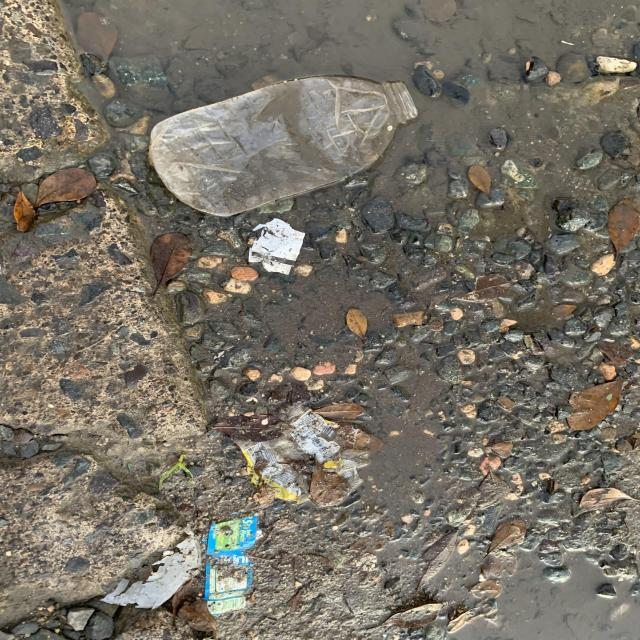plastic: (154, 75, 422, 213)
